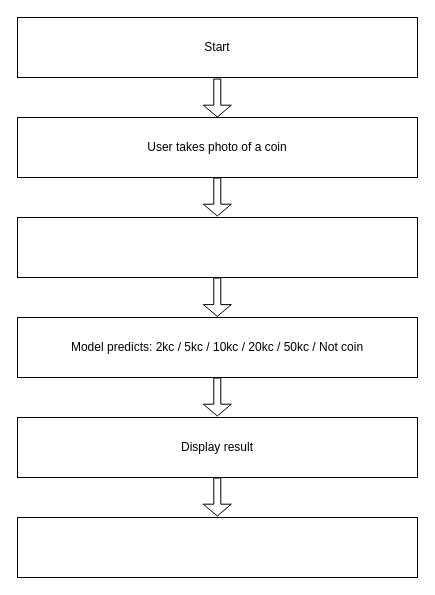
The diagram is 435 pixels wide and 595 high, and some of its shapes have lost their labels. The centre of each missing label's shape, as x and y in pixels:
"End" belongs at point (217, 547).
"Photo sent to EI model" belongs at point (217, 247).
